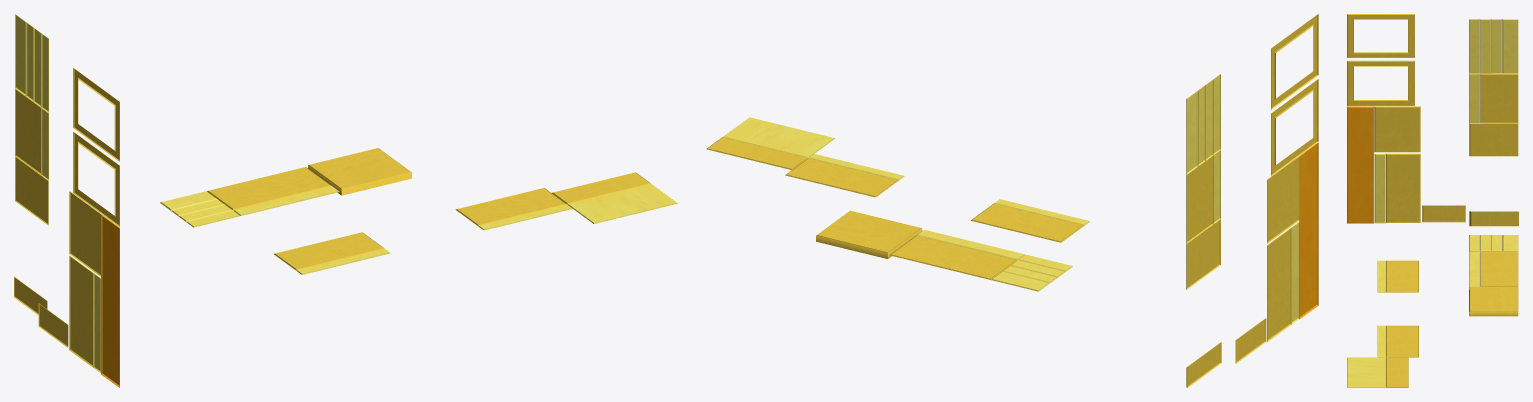
File: nt_2020_house_01_cabinet_LOD0.obj
The picture shows the model from 3 angles, left to right: view 1: azimuth 30°, elevation 25°; view 2: azimuth 150°, elevation 25°; view 3: azimuth 270°, elevation 25°; orthographic projection. The views are drawn at different scales.
Visible parts, largest first — view 1: nt_2020_formica_green; view 2: nt_2020_formica_green; view 3: nt_2020_formica_green.
Part boxes in pixels (bbox=[...]): nt_2020_formica_green: bbox=[14, 14, 677, 387]; nt_2020_formica_green: bbox=[706, 14, 1318, 387]; nt_2020_formica_green: bbox=[1347, 14, 1518, 387].
Size of the model in its own units: 865 by 424 by 315.
Materials: 1 (1 with a texture image).
